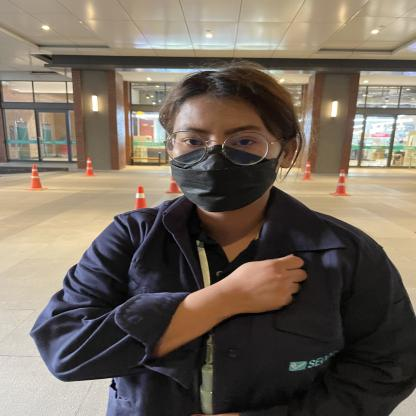Sadness: (110, 237, 320, 358)
